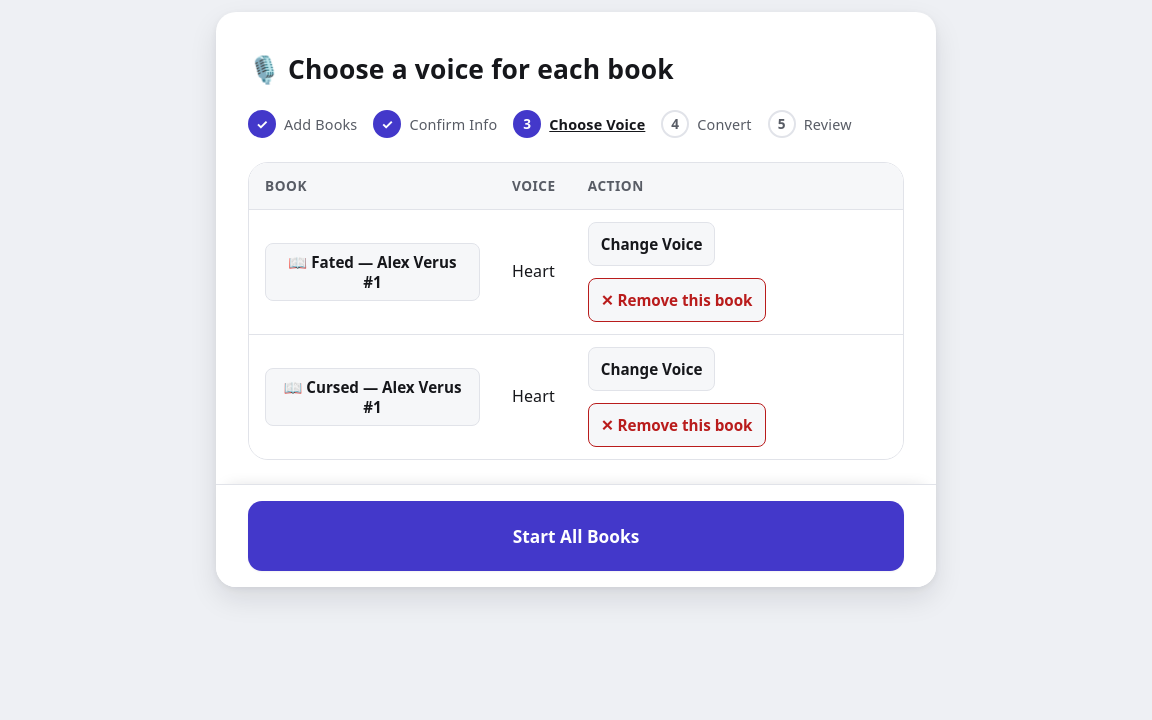
it: VoiceAssignmentScreen › clicking a book title reopens metadata review in an overlay
Click the button "📖 Fated — Alex Verus #1" at [372, 272], box [265,243,480,301]
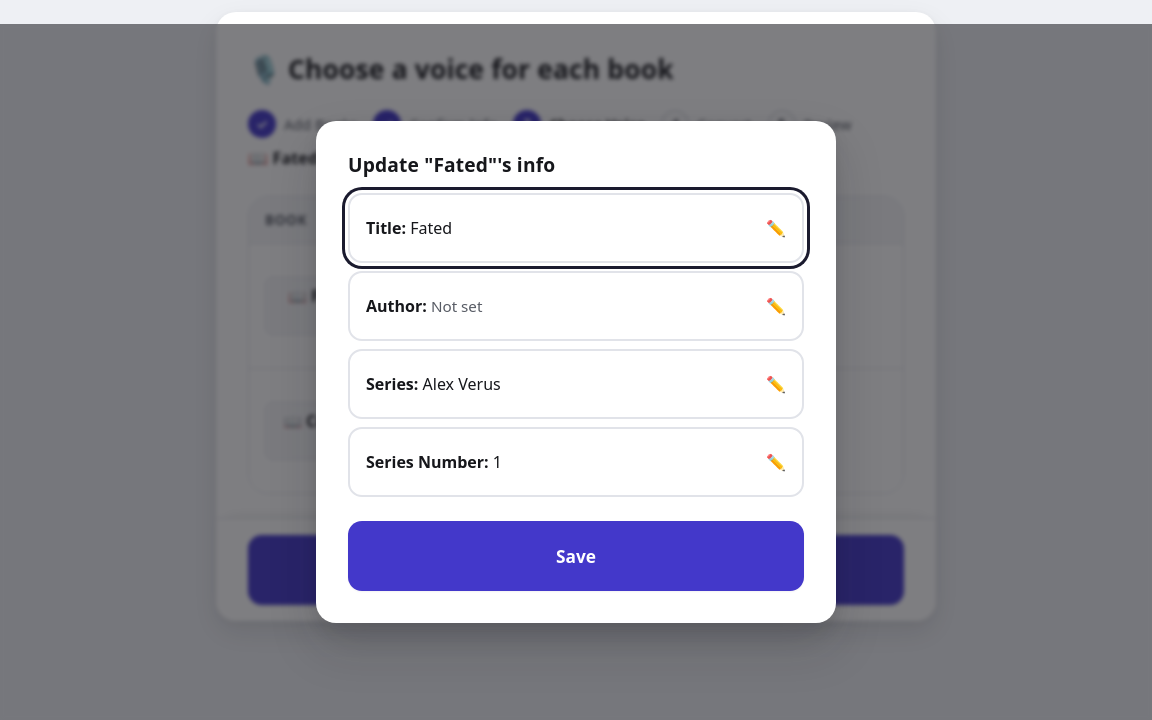
Now the dialog "Update \"Fated\"'s info" is shown, box [316,120,836,624]
